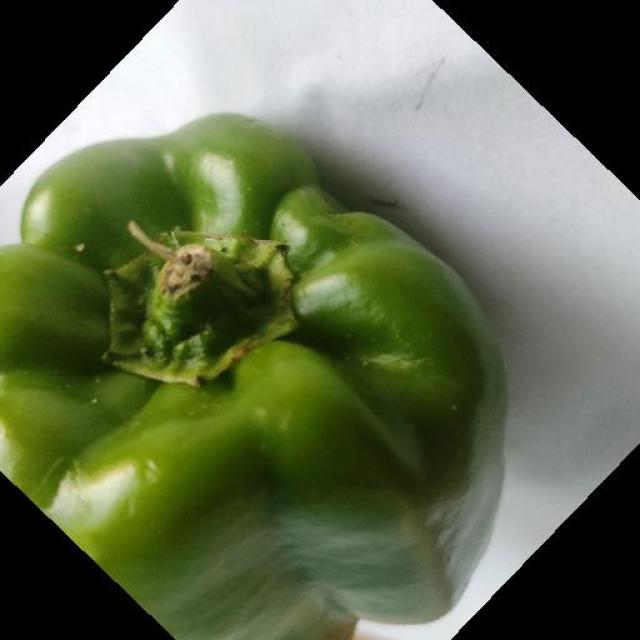Fresh_Capsicum: (0, 119, 495, 592)
